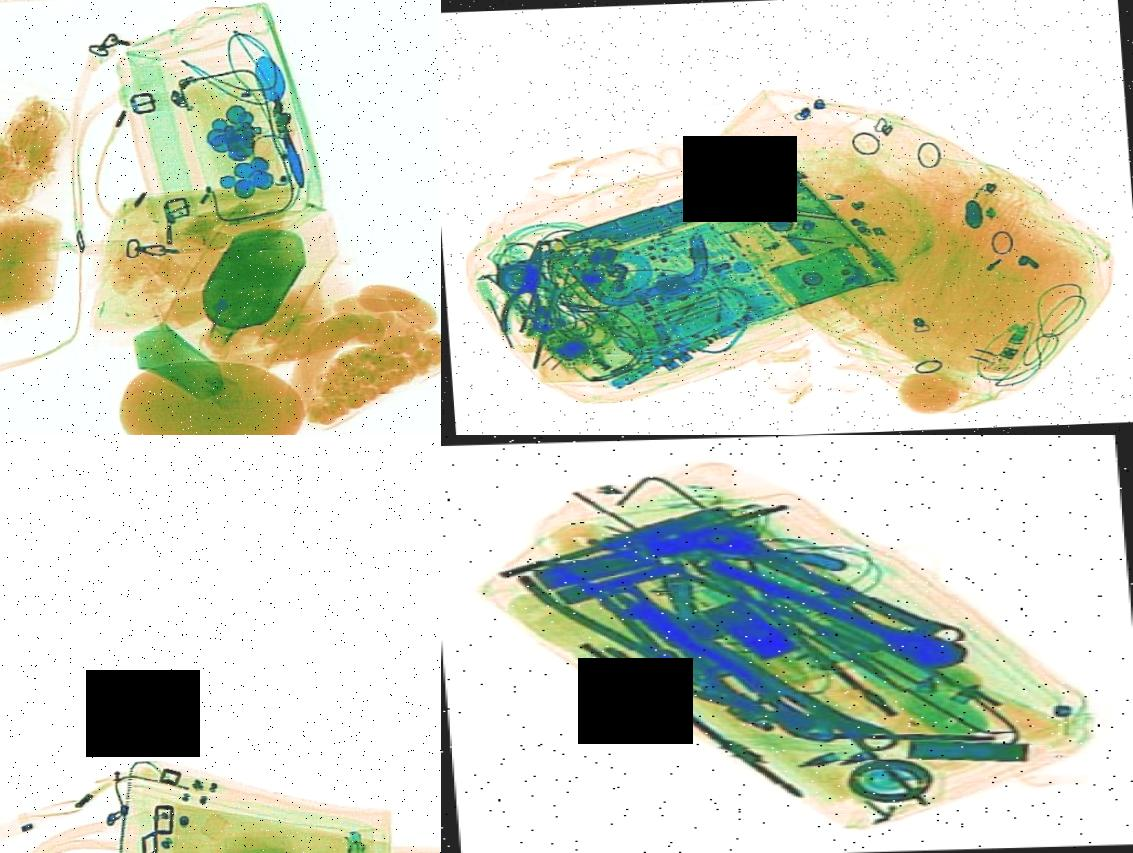Pliers: (495, 546, 720, 694), (594, 615, 801, 744), (485, 237, 568, 338)
Wrench: (588, 576, 901, 760), (692, 516, 968, 654)
